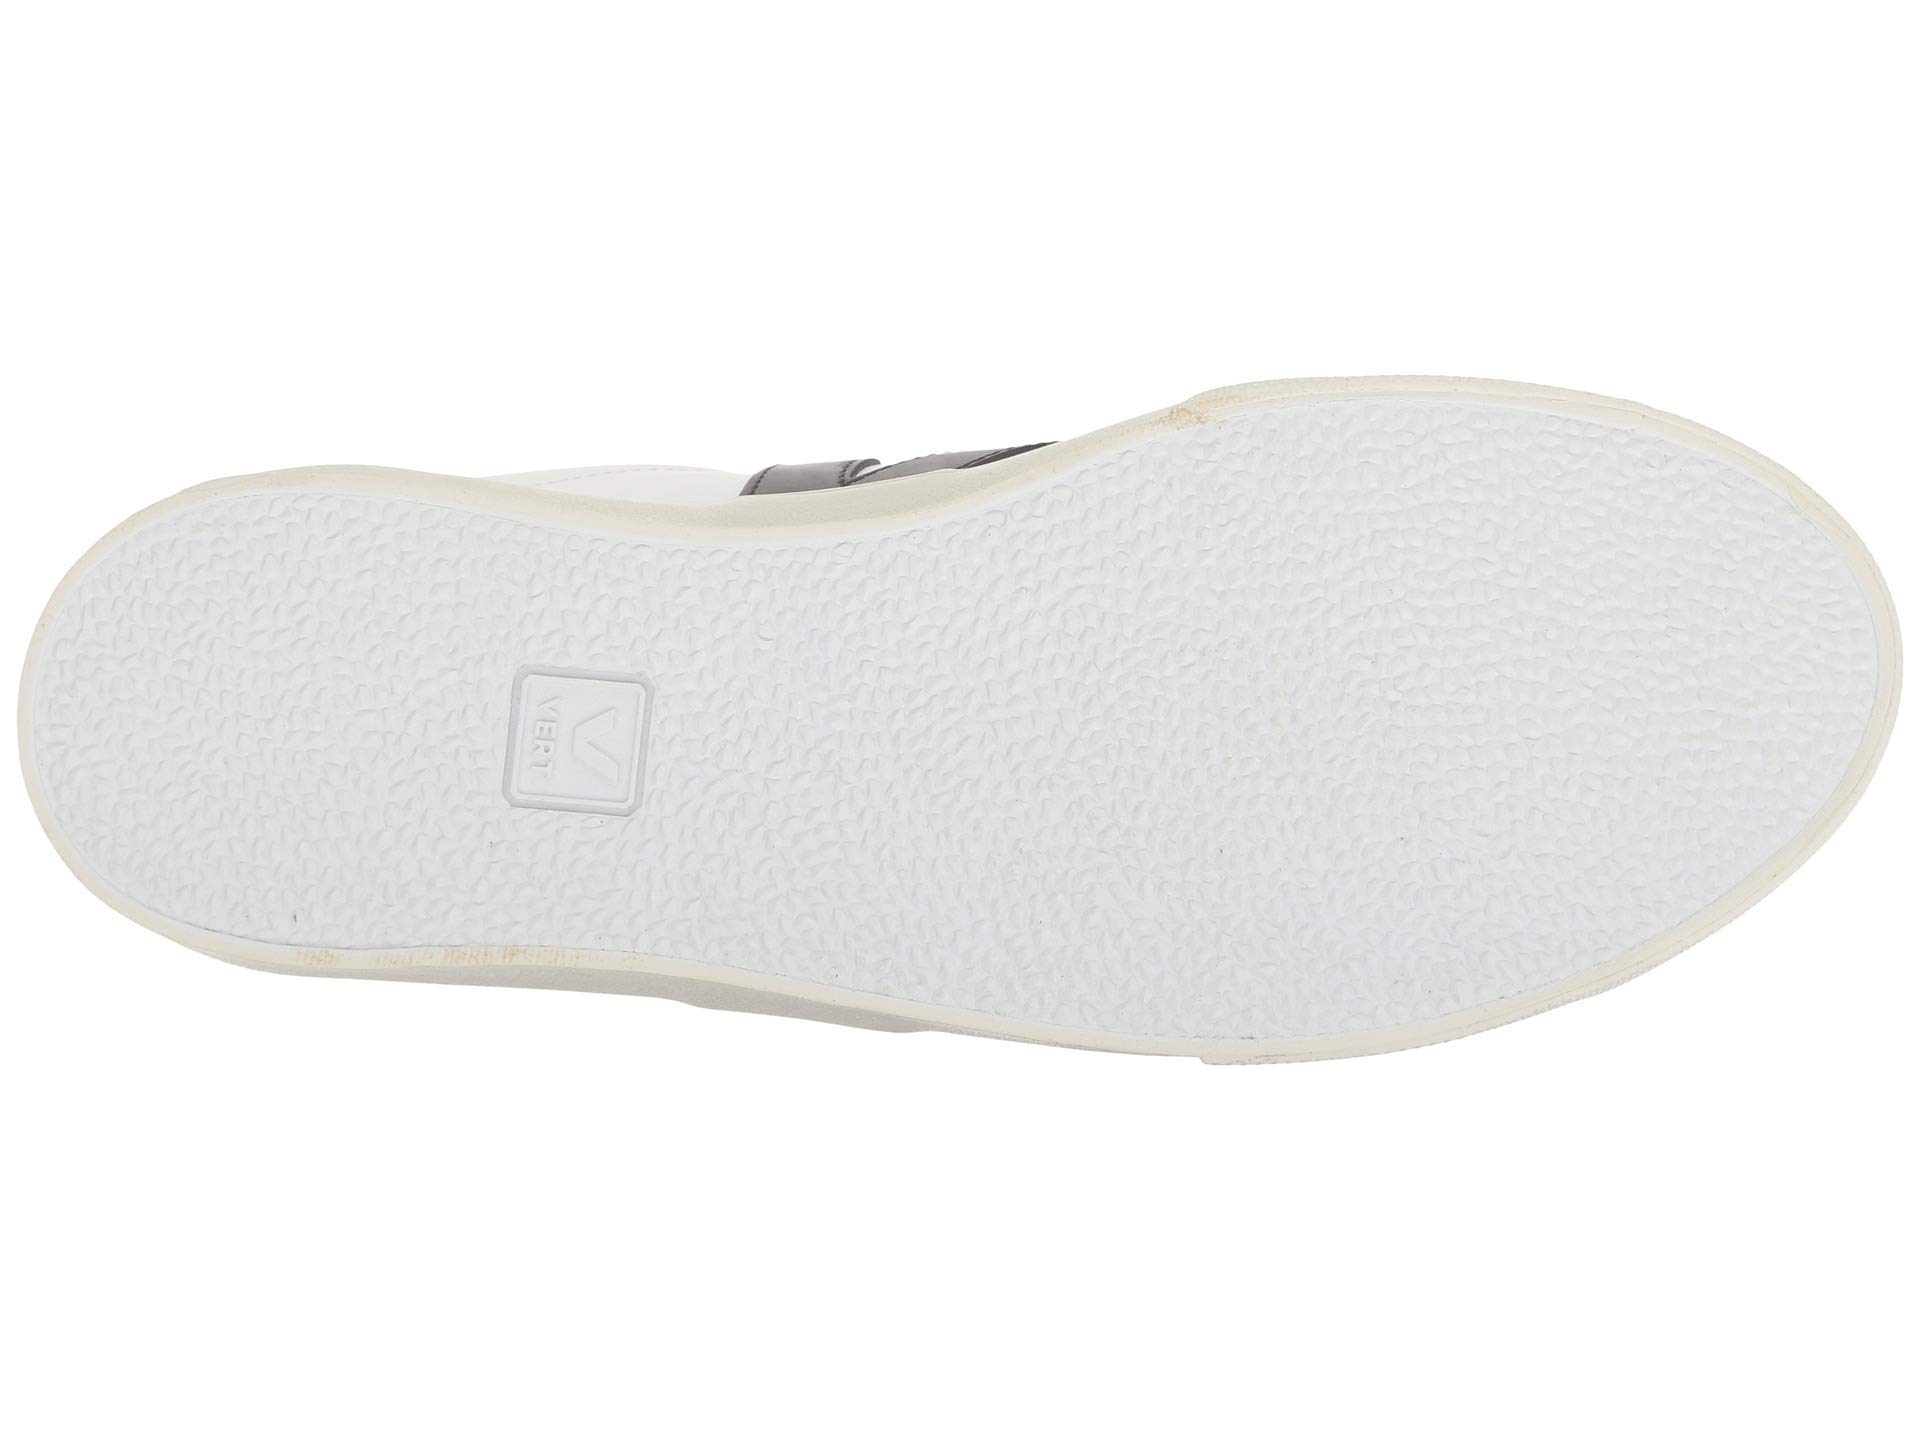other: (1081, 569, 1438, 930)
quad: (384, 599, 760, 839)
text: (384, 599, 760, 839)
